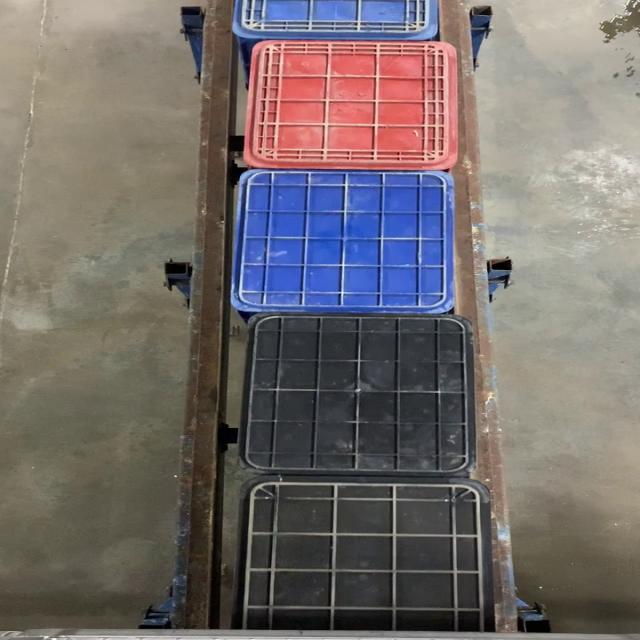Box: (237, 314, 479, 476), (231, 171, 458, 313), (247, 39, 461, 170)
